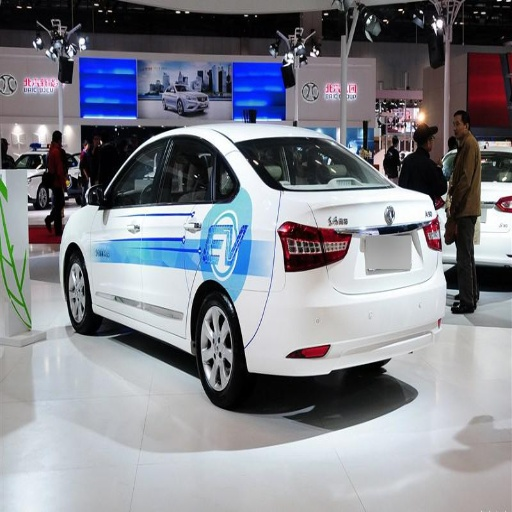back_bumper: (236, 263, 444, 378)
back_glass: (237, 138, 387, 186)
back_left_door: (145, 132, 215, 322)
